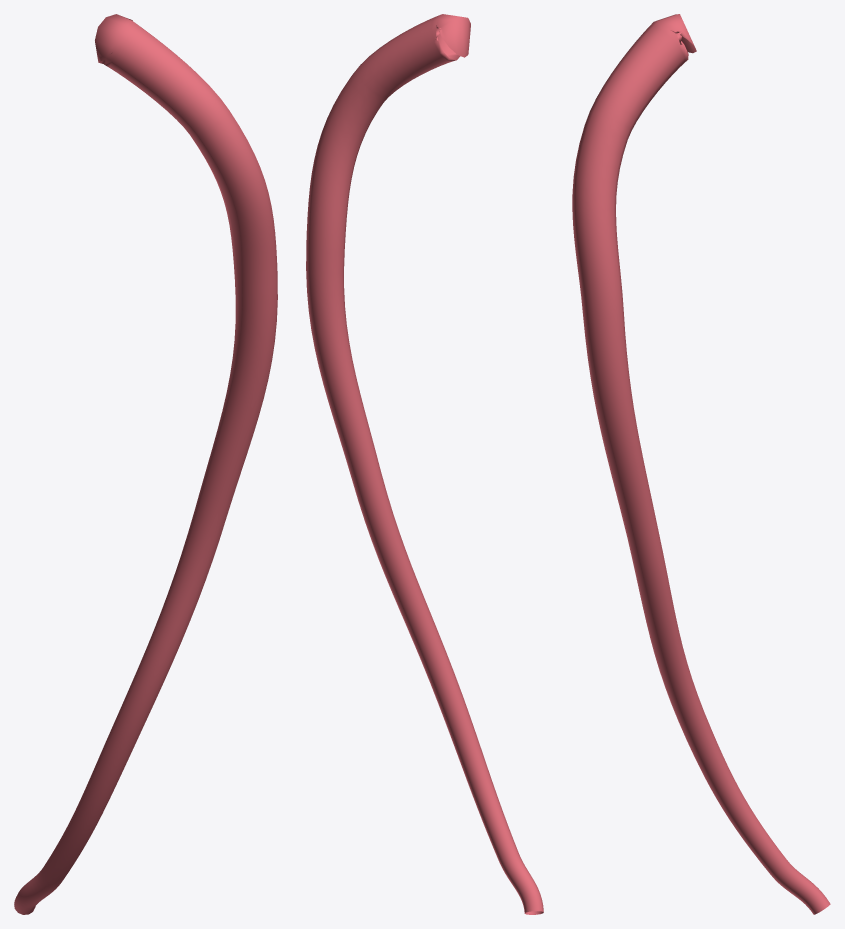
The picture shows the model from 3 angles, left to right: view 1: azimuth 30°, elevation 25°; view 2: azimuth 210°, elevation 25°; view 3: azimuth 270°, elevation 25°; orthographic projection. The views are drawn at different scales.
Parts seen in each view (by area): view 1: ZA_355cfd06a4ca12c3; view 2: ZA_355cfd06a4ca12c3; view 3: ZA_355cfd06a4ca12c3.
Part boxes in pixels (x1,y1,x2,y2): ZA_355cfd06a4ca12c3: [14, 14, 277, 914]; ZA_355cfd06a4ca12c3: [306, 14, 543, 914]; ZA_355cfd06a4ca12c3: [572, 14, 830, 914].
Size of the model in its own units: 0.0143 by 0.0874 by 0.0226.
